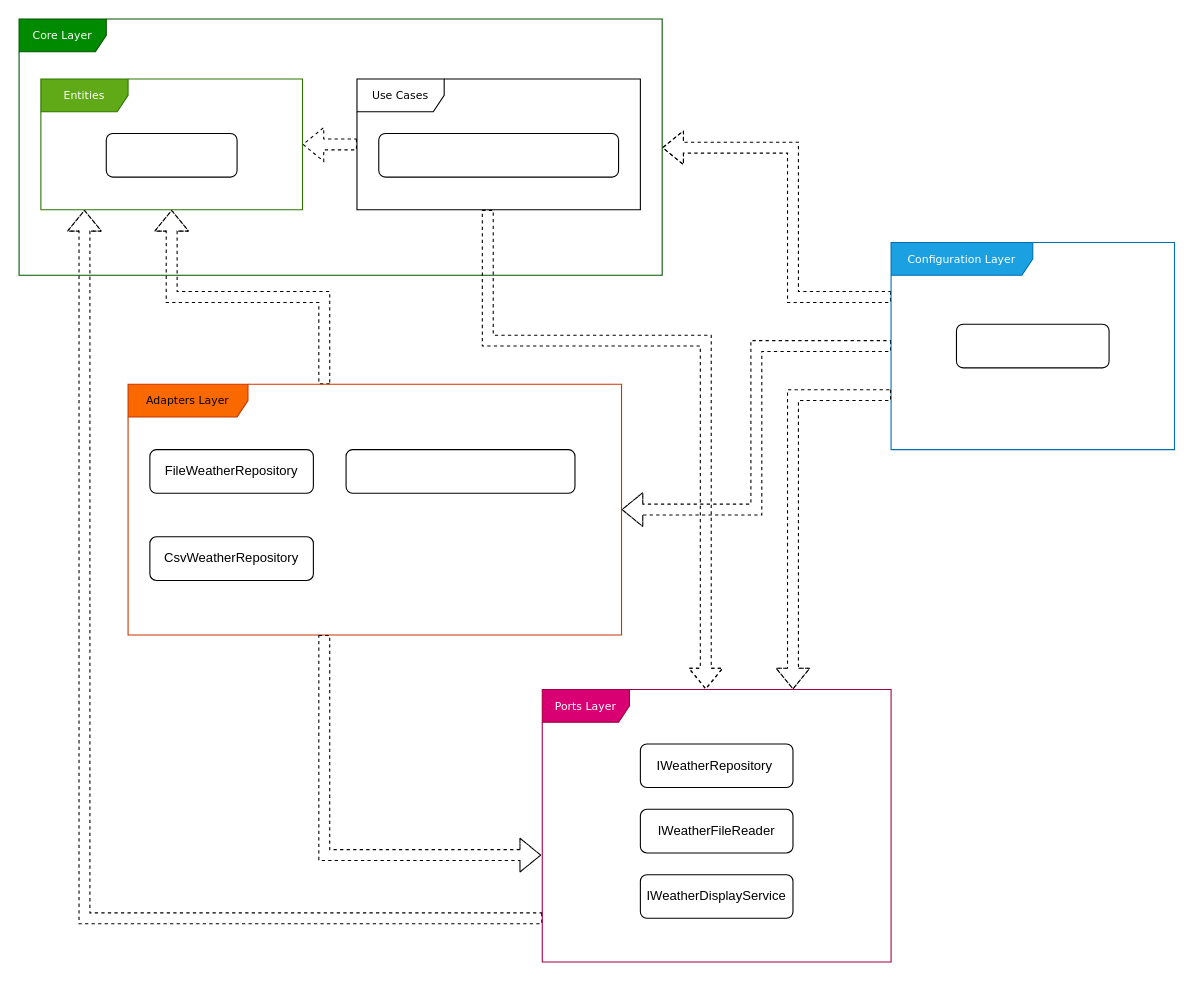
Image size: 1194x981. Some labels were removed from this diagram. Here are the shapes that lost their labels. From the top down, the centre of each, then its label:
[171,154]: WeatherRecord
[498,154]: FindDayWithLowestTemperatureRange
[1032,345]: AppConfig
[460,471]: ConsoleWeatherDisplayService
